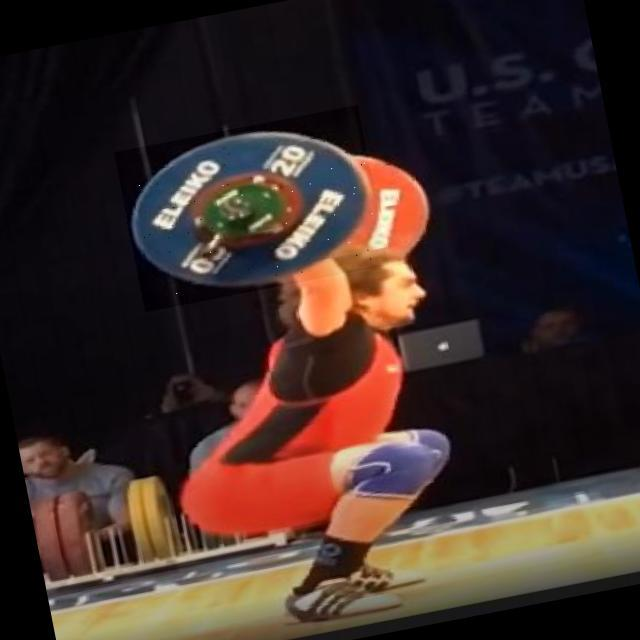barbell: (115, 106, 390, 313)
